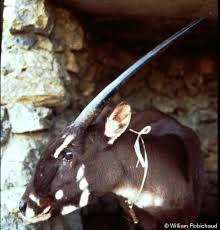sao_la: (16, 18, 203, 227)
